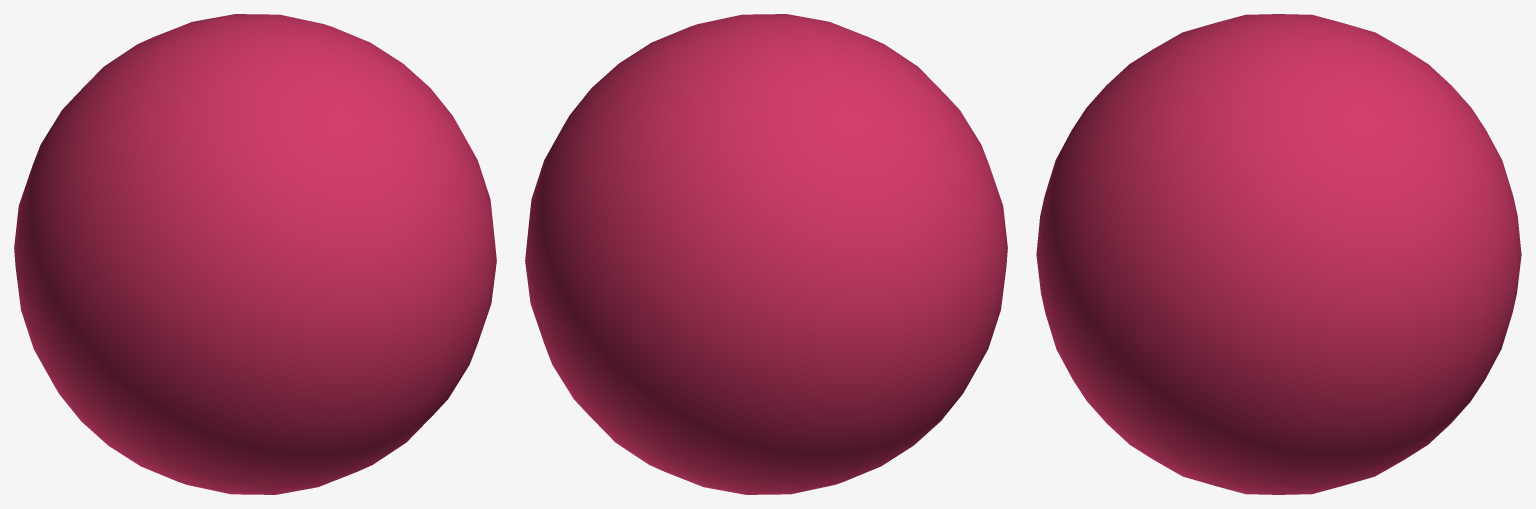
The model's file is FrogSoulCircle.fbx.
3 renders of one model, left to right at view 1: azimuth 30°, elevation 25°; view 2: azimuth 150°, elevation 25°; view 3: azimuth 270°, elevation 25°, orthographic.
Visible parts, largest first — view 1: BOSS_SOUL_Frog; view 2: BOSS_SOUL_Frog; view 3: BOSS_SOUL_Frog.
Boxes of the visible parts, left/top/right/bottom form: BOSS_SOUL_Frog: left=14, top=14, right=496, bottom=494; BOSS_SOUL_Frog: left=525, top=14, right=1007, bottom=494; BOSS_SOUL_Frog: left=1036, top=14, right=1521, bottom=494.
Size of the model in its own units: 1.18 by 1.18 by 1.18.
